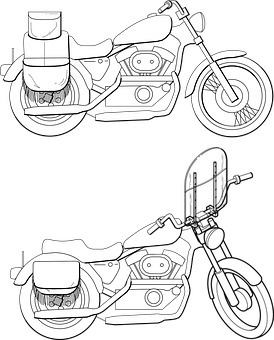motorbike: (7, 151, 274, 334), (1, 2, 274, 137)
